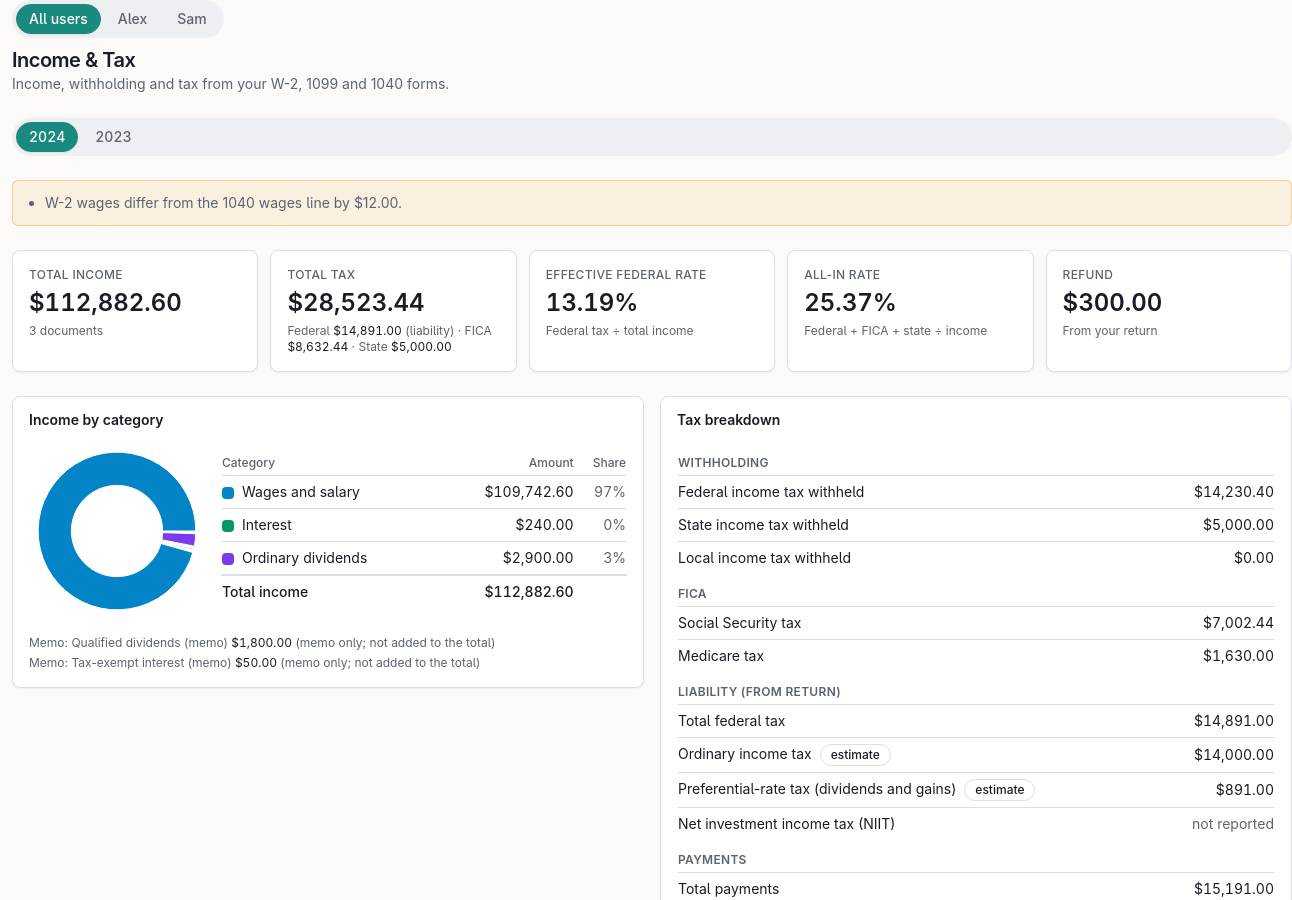
Test: TaxScreen › switches year
This screenshot has width=1292, height=900.
expect the element with test id "tax-summary-cards" is shown: met, box [12,250,1291,372]
Click the radio button labelled "2023". click: (113, 137)
box: [82,122,145,152]
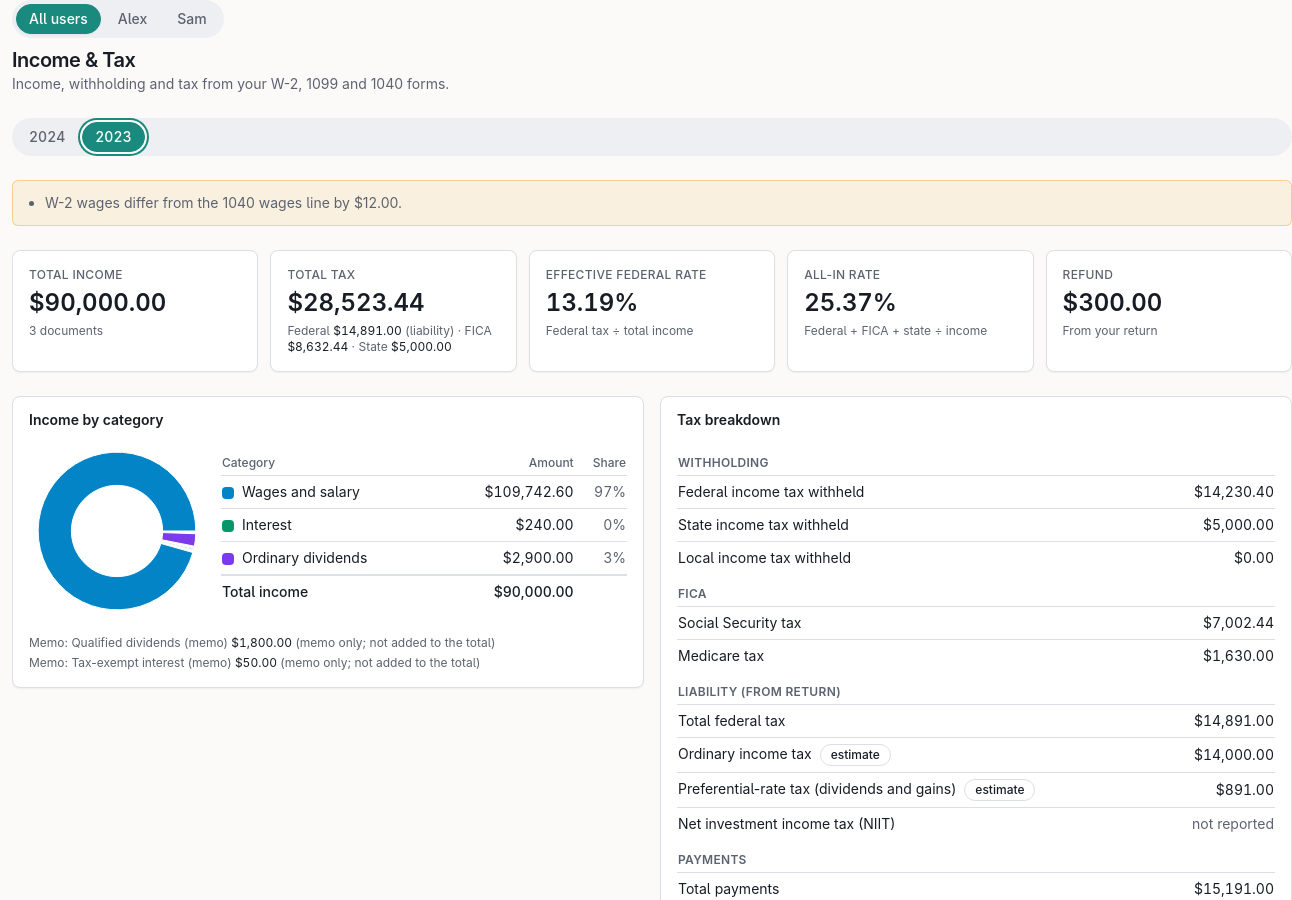
expect the text "$90,000.00" next to "$28,523.44" is shown: met, box [29,288,166,317]
